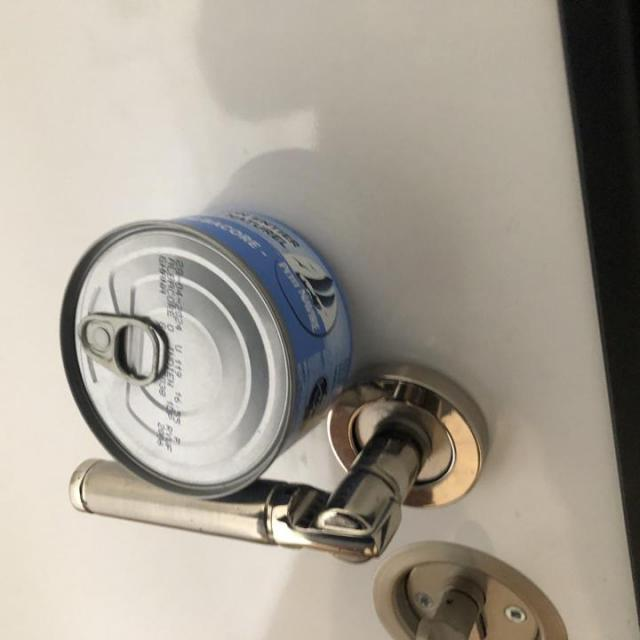recyclable: (58, 200, 374, 510)
